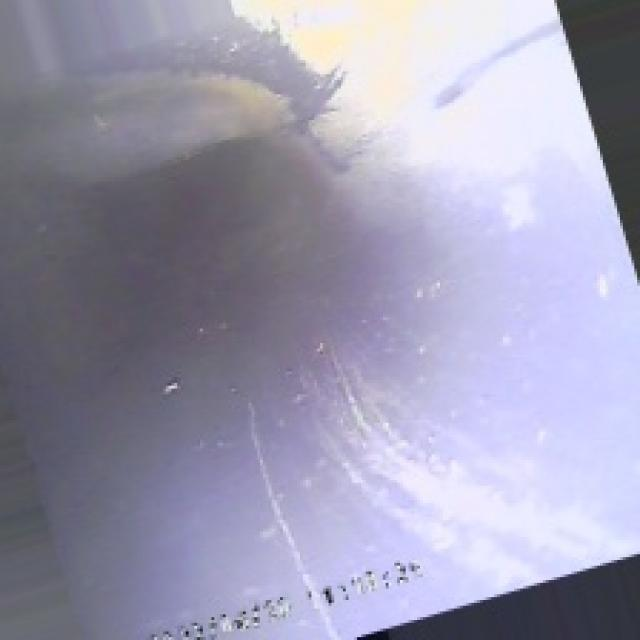shape_deformation: (43, 63, 514, 394)
